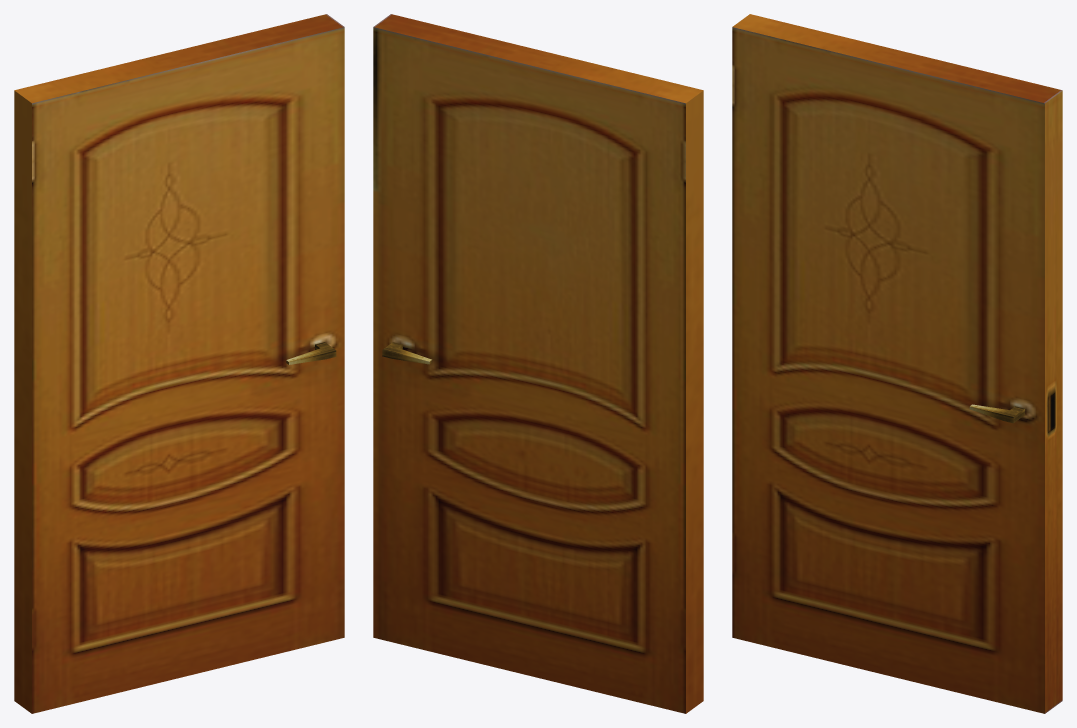
Rendered from door.fbx.
3 renders of one model, left to right at view 1: azimuth 30°, elevation 25°; view 2: azimuth 150°, elevation 25°; view 3: azimuth 330°, elevation 25°, orthographic.
Parts seen in each view (by area): view 1: retro_door; view 2: retro_door; view 3: retro_door.
Part boxes in pixels (x1=…): retro_door: x1=14, y1=14, x2=344, y2=713; retro_door: x1=373, y1=14, x2=703, y2=713; retro_door: x1=732, y1=14, x2=1062, y2=713.
Bounding box in the file's own units: 118 × 220 × 26.27.
Materials: 1 (1 with a texture image).
